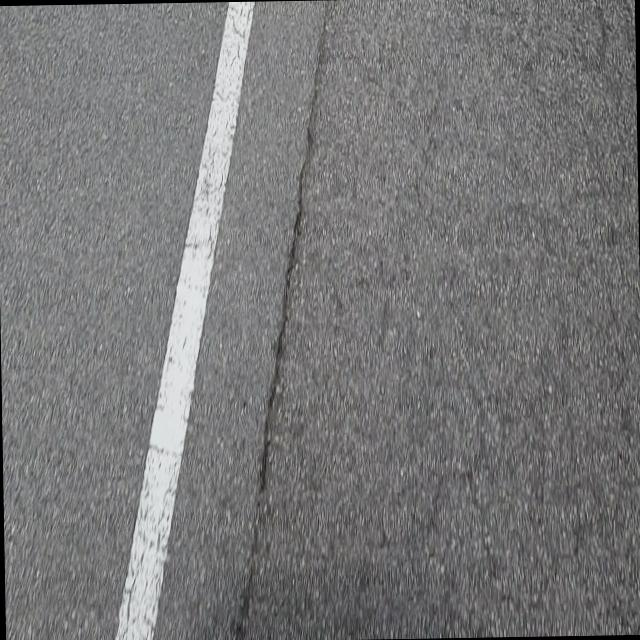Retak-Memanjang: (255, 2, 331, 501)
